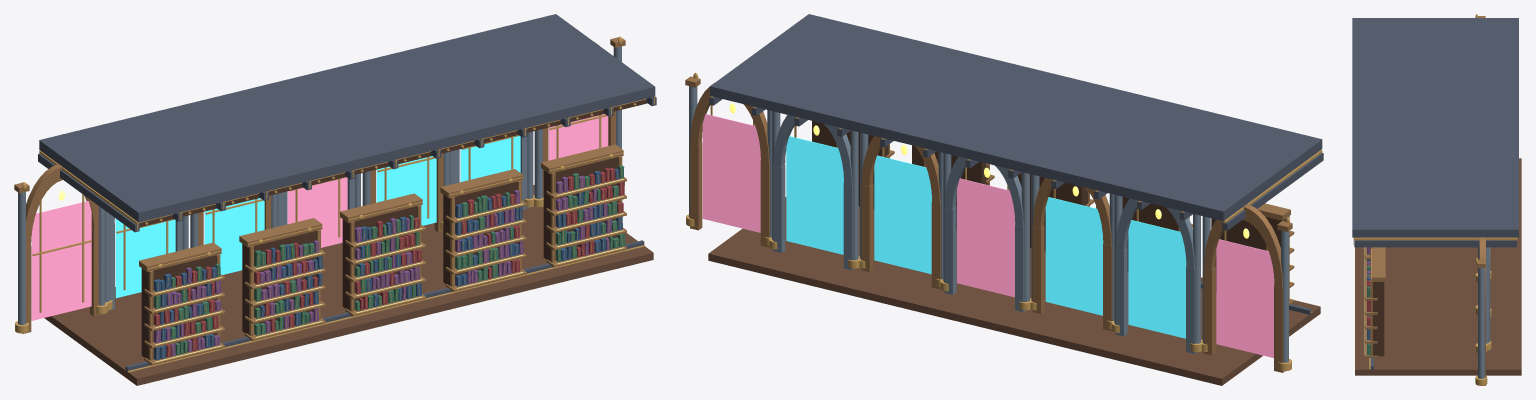
The model's file is library_props.glb.
The picture shows the model from 3 angles, left to right: view 1: azimuth 30°, elevation 25°; view 2: azimuth 150°, elevation 25°; view 3: azimuth 270°, elevation 25°; orthographic projection. The views are drawn at different scales.
Parts seen in each view (by area): view 1: LIBRARY | gothic stone, oak, stained glass and inlaid nave.0, LIBRARY | handcrafted bookcases with gilt book atlas.001; view 2: LIBRARY | gothic stone, oak, stained glass and inlaid nave.0, LIBRARY | handcrafted bookcases with gilt book atlas.001; view 3: LIBRARY | gothic stone, oak, stained glass and inlaid nave.0, LIBRARY | handcrafted bookcases with gilt book atlas.001.
Part boxes in pixels (left/top/right/bottom): LIBRARY | gothic stone, oak, stained glass and inlaid nave.0: left=14, top=14, right=656, bottom=385; LIBRARY | handcrafted bookcases with gilt book atlas.001: left=139, top=144, right=626, bottom=365; LIBRARY | gothic stone, oak, stained glass and inlaid nave.0: left=685, top=14, right=1323, bottom=385; LIBRARY | handcrafted bookcases with gilt book atlas.001: left=812, top=121, right=1294, bottom=304; LIBRARY | gothic stone, oak, stained glass and inlaid nave.0: left=1352, top=14, right=1521, bottom=385; LIBRARY | handcrafted bookcases with gilt book atlas.001: left=1364, top=247, right=1385, bottom=357.
Bounding box in the file's own units: 42.36 × 11.6 × 12.2.
